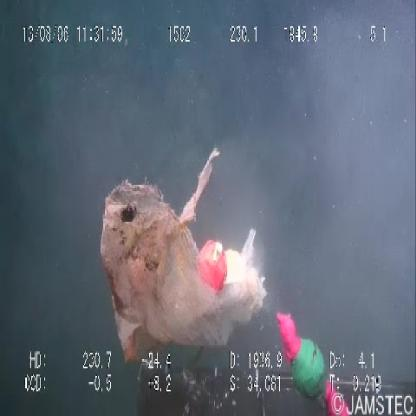Rov: (132, 326, 416, 416)
Rác: (87, 132, 277, 366)
